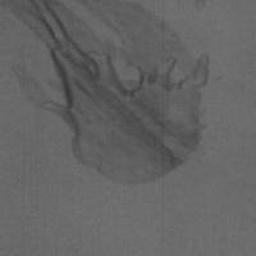Water spot: (0, 0, 212, 186), (192, 0, 209, 13)
